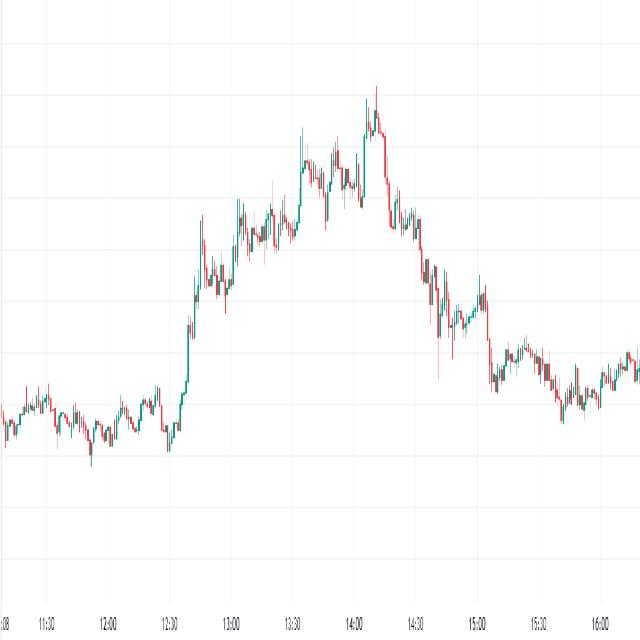Rounding-Top: (190, 80, 442, 352)
